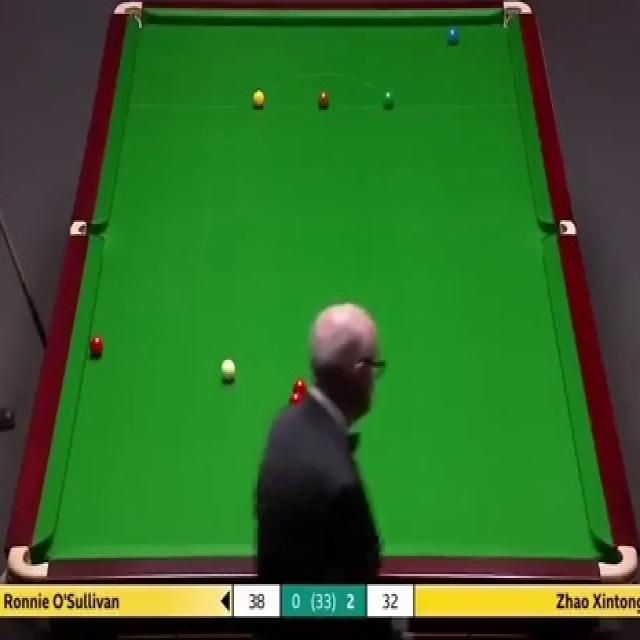blue-ball: (446, 27, 459, 44)
brown-ball: (316, 88, 331, 110)
green-ball: (380, 90, 395, 110)
red-ball: (88, 336, 105, 358), (288, 391, 303, 414), (293, 378, 308, 399)
white-ball: (219, 358, 237, 384)
yellow-ball: (252, 88, 265, 109)
